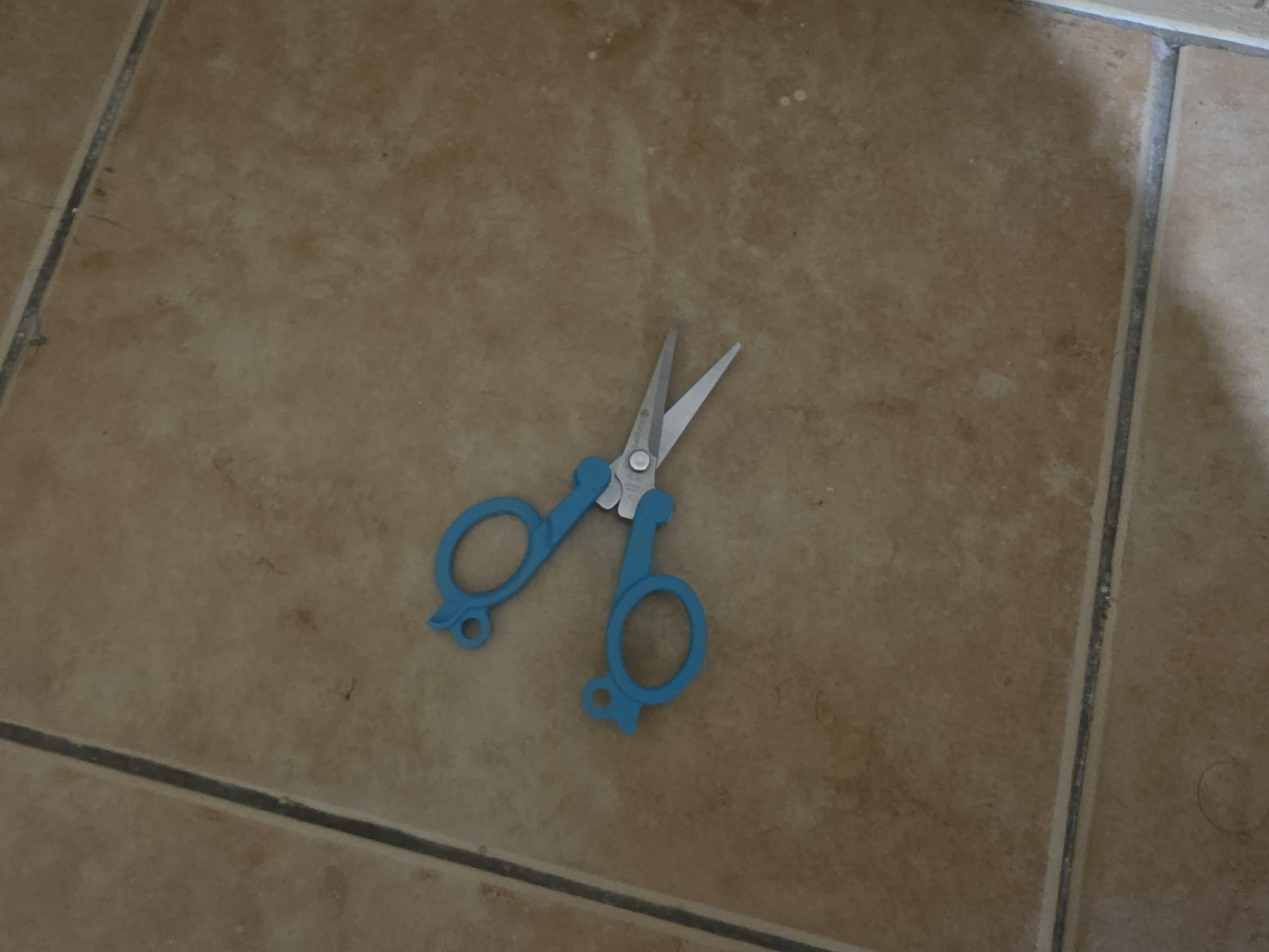scissors: (425, 319, 742, 737)
